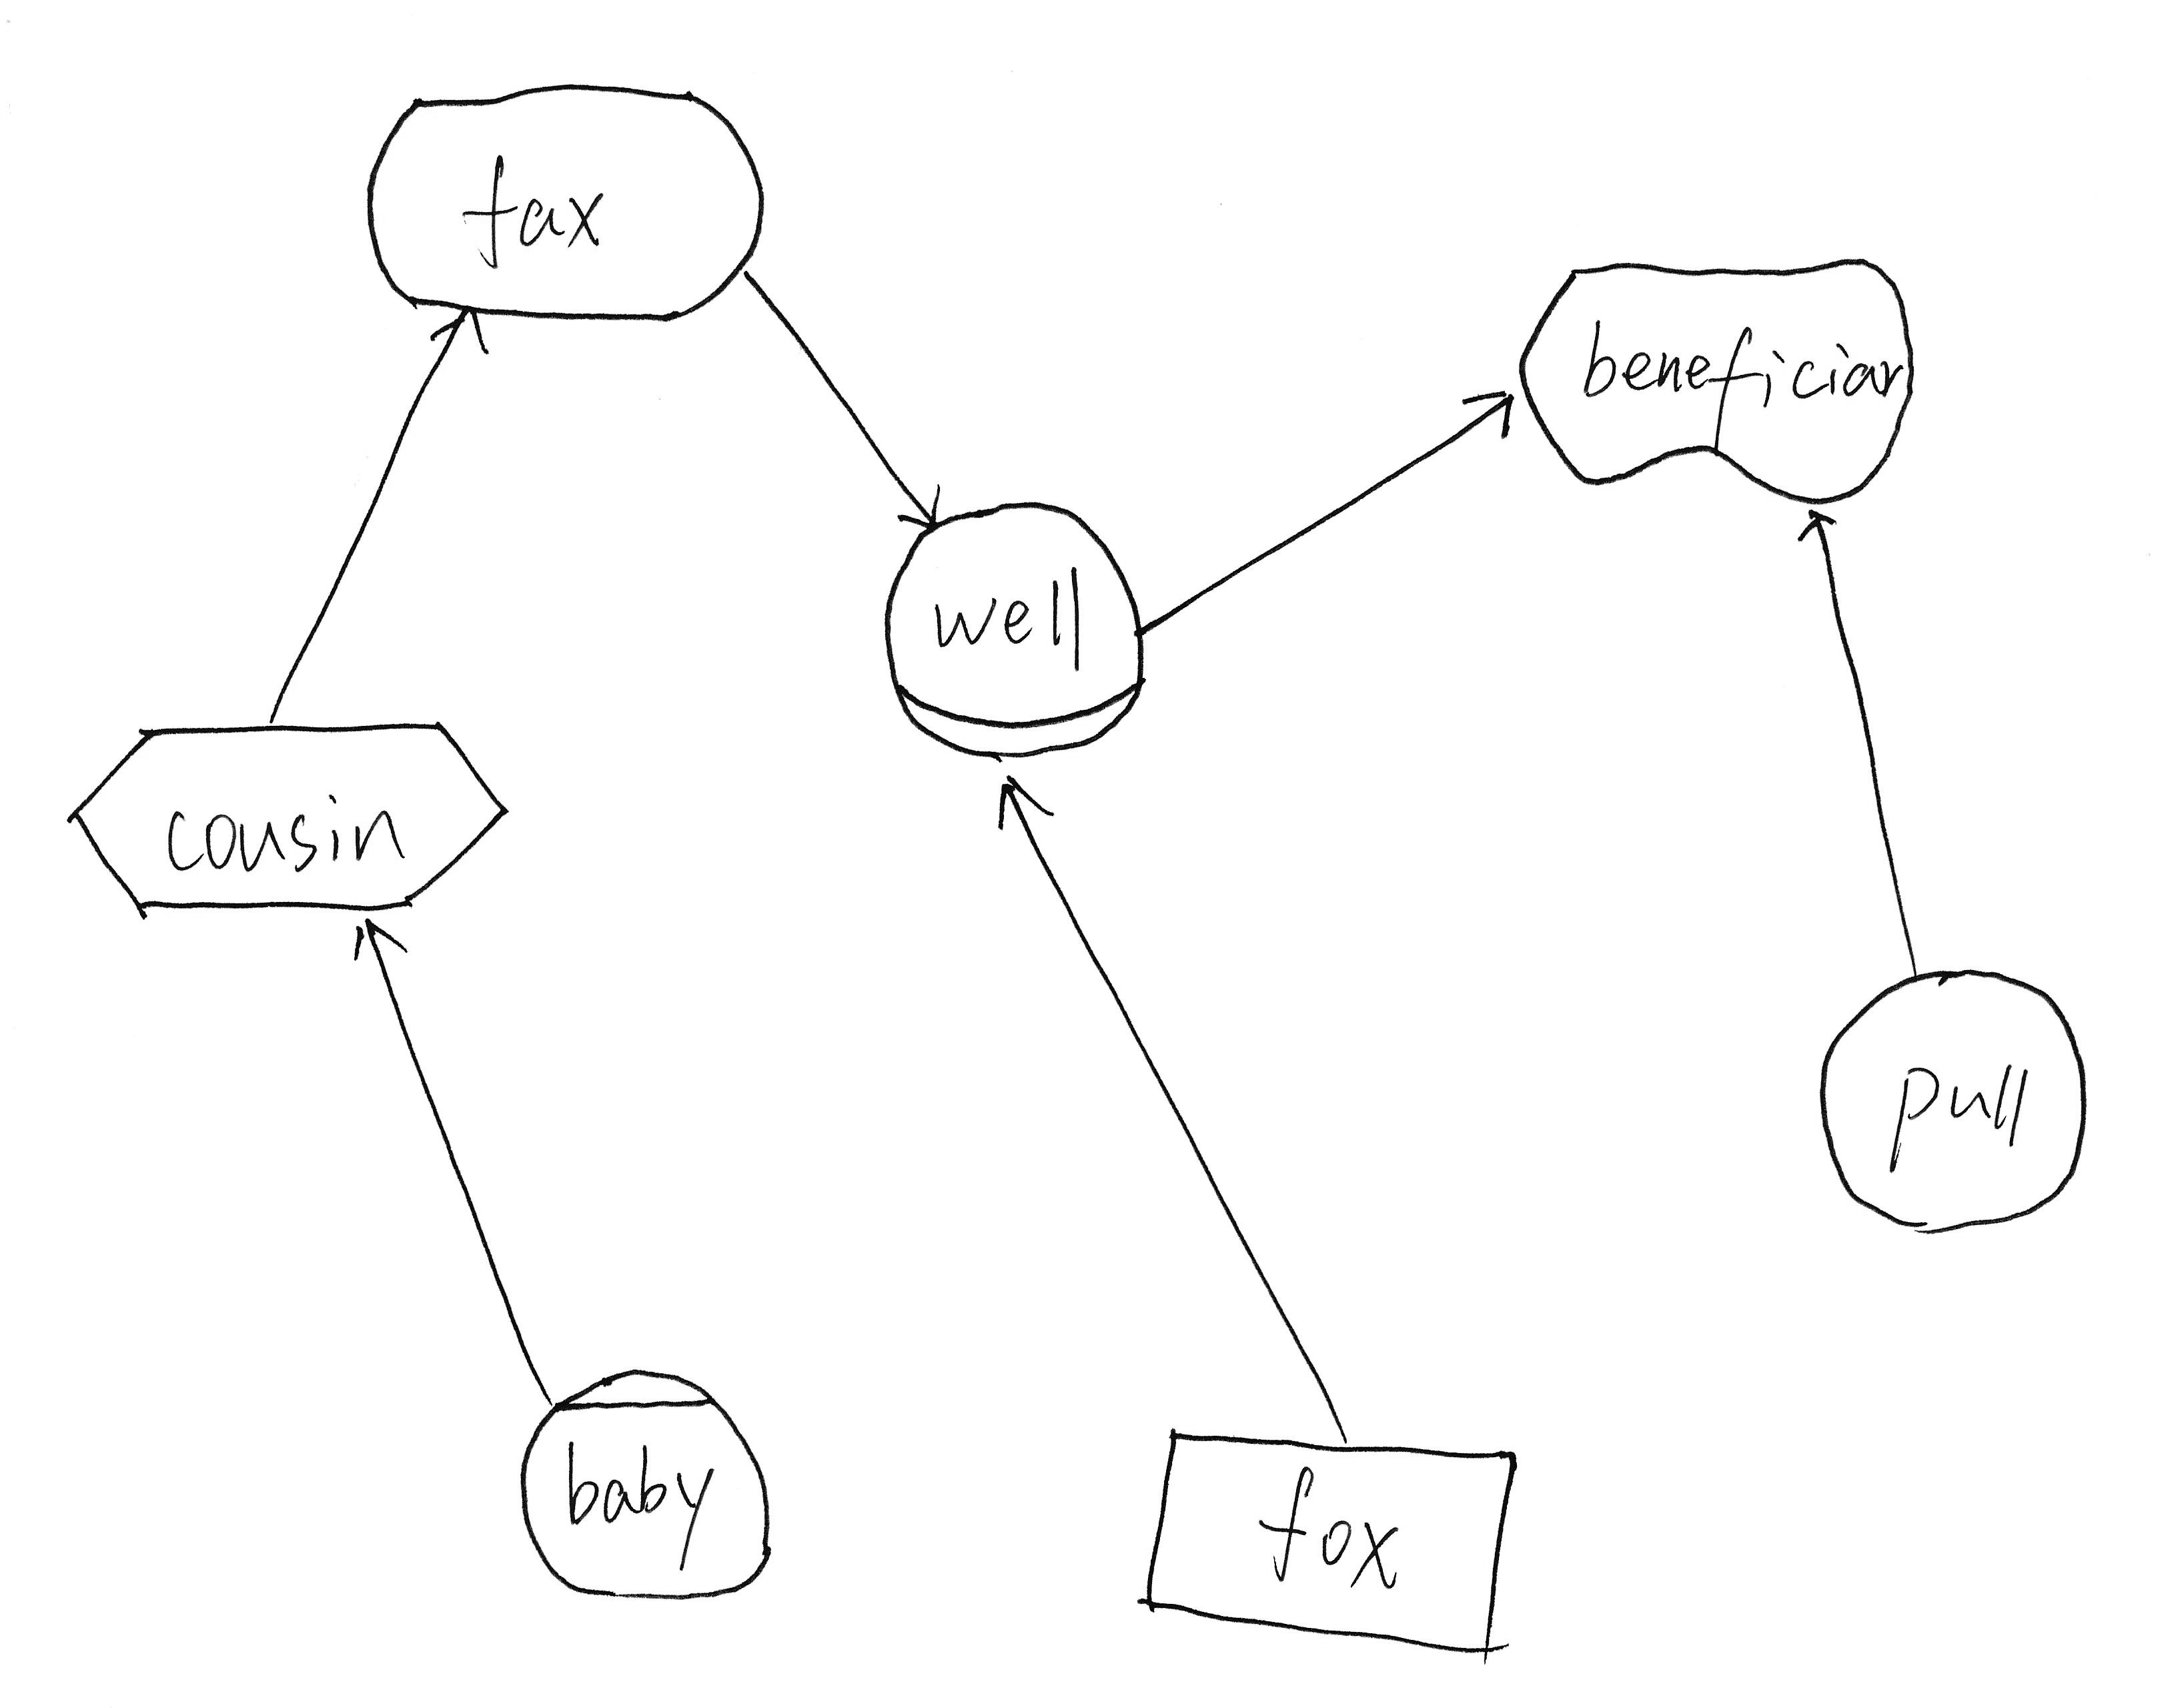actor: (1794, 942, 2102, 1254)
agent: (1115, 1405, 1562, 1688), (507, 1344, 792, 1610)
arrow: (1447, 362, 1530, 461), (975, 763, 1069, 842), (408, 296, 503, 372), (333, 903, 415, 972), (883, 470, 961, 541), (1792, 493, 1854, 566)
goal: (342, 62, 780, 341)
quality: (1507, 238, 1930, 518)
role: (865, 477, 1165, 775)
task: (51, 697, 523, 933)
